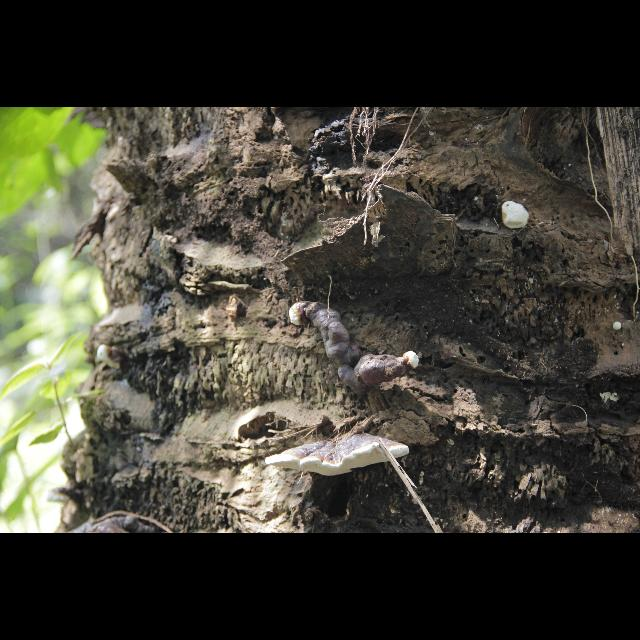ganoderma: (310, 302, 403, 396), (266, 434, 410, 479), (46, 488, 76, 506)
primordium: (502, 202, 531, 230), (98, 345, 128, 370), (290, 303, 310, 328), (404, 352, 421, 373), (614, 323, 623, 332)
